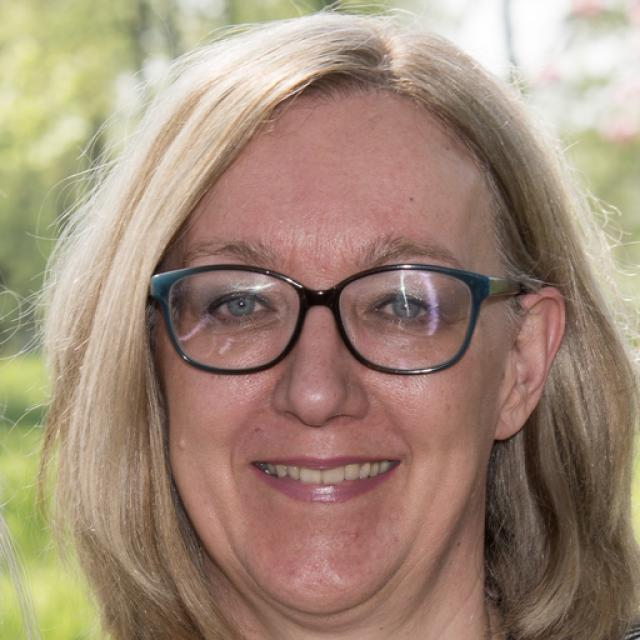happy: (158, 119, 502, 620)
